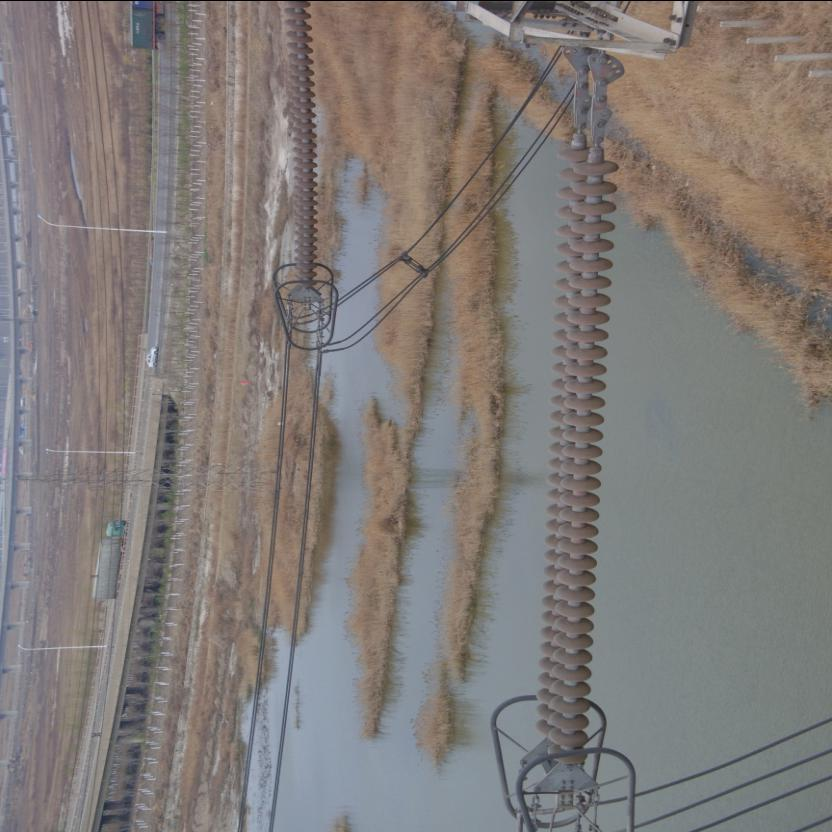insulator: (527, 75, 619, 774), (281, 0, 323, 291)
